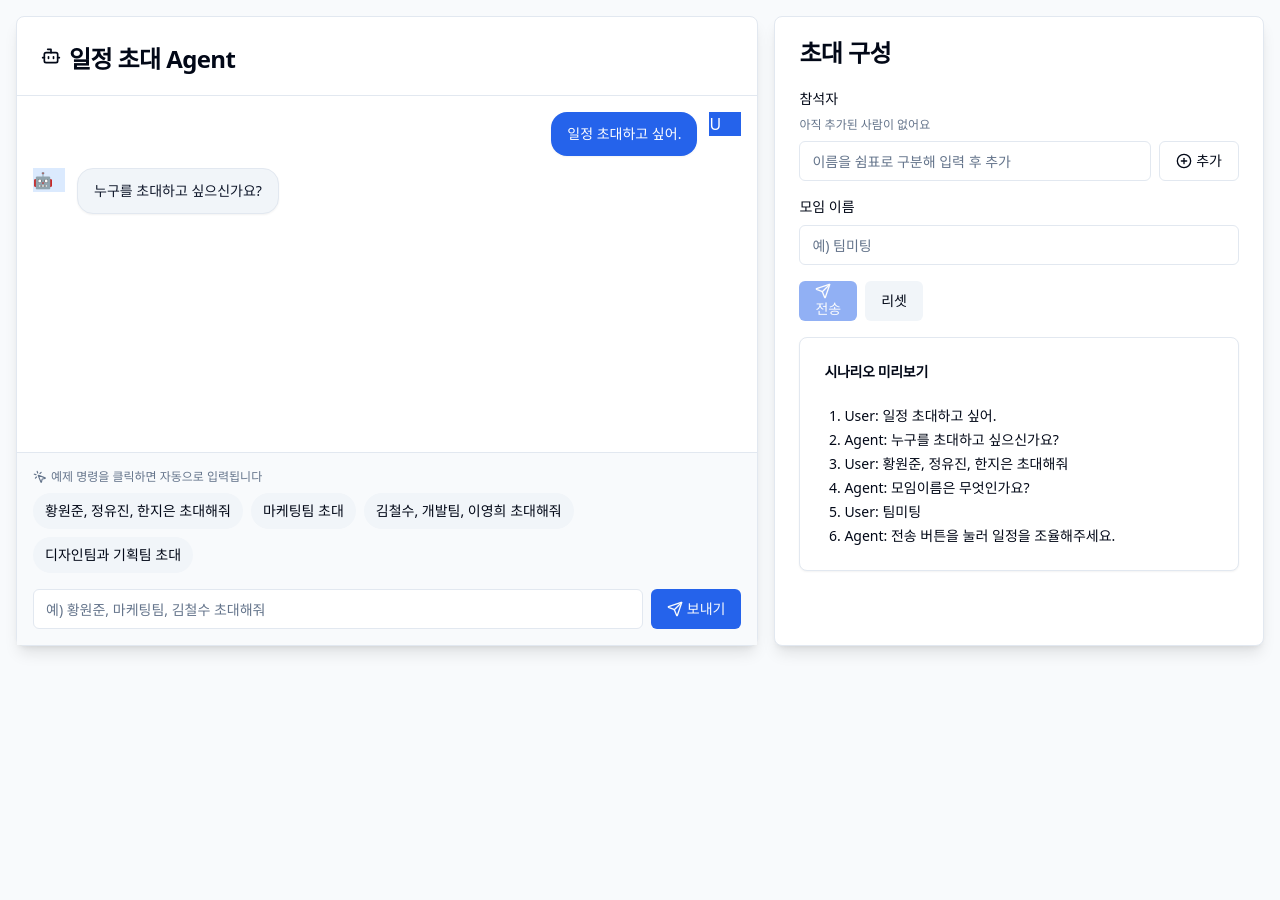
it: AgentScheduler › handles example button clicks
This screenshot has width=1280, height=900.
# Click an example button
Click the button "황원준, 정유진, 한지은 초대해줘" at [138, 511], box top-left (33, 493), bottom-right (243, 529)
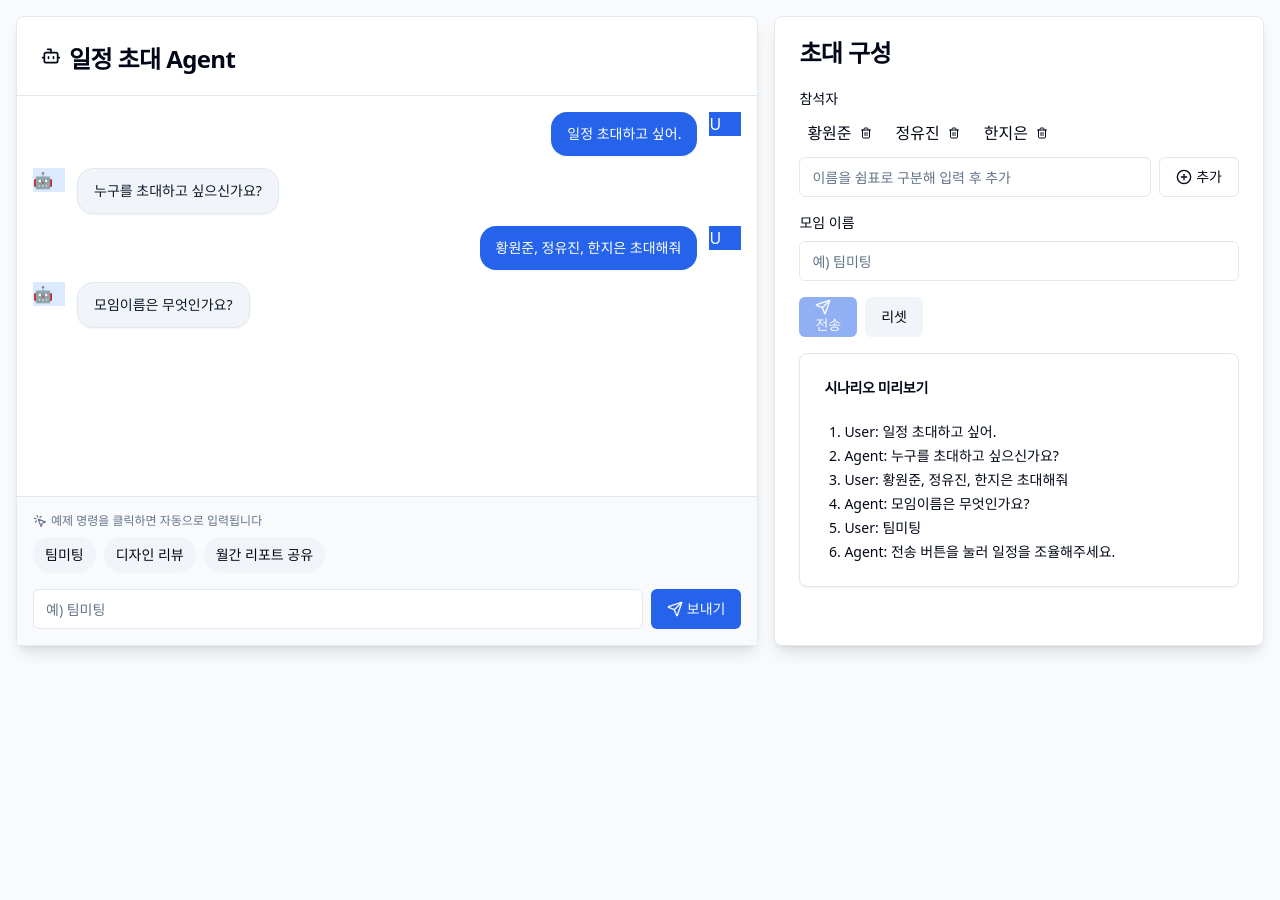
Expected: the text "황원준" is shown, top-left (807, 122), bottom-right (872, 144)
Expected: the text "정유진" is shown, top-left (896, 122), bottom-right (960, 144)
Expected: the text "한지은" is shown, top-left (984, 122), bottom-right (1048, 144)
